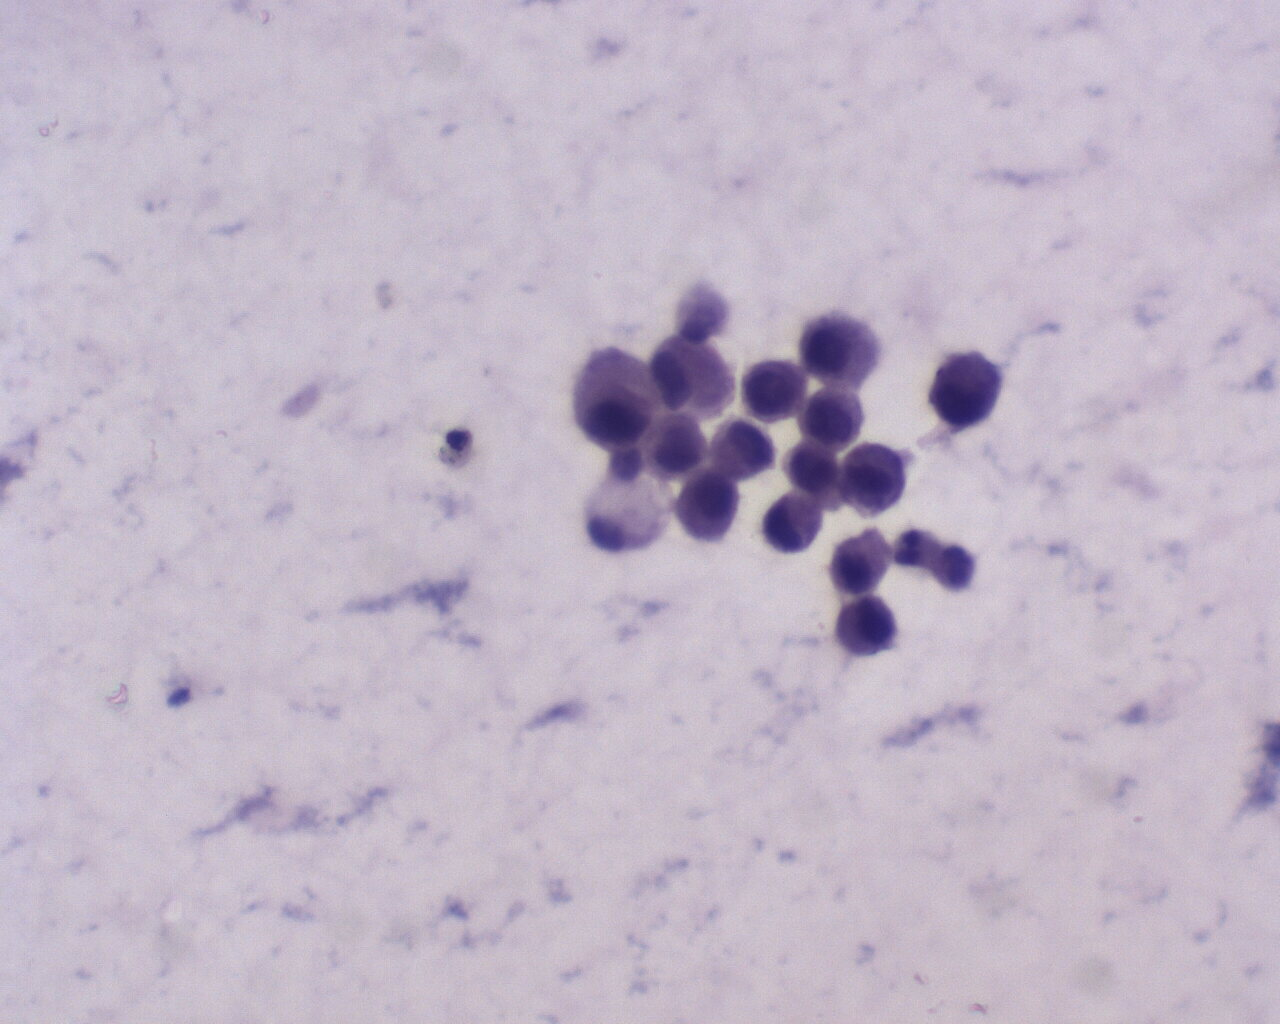ab: (565, 342, 664, 453), (797, 305, 890, 387), (929, 347, 1006, 434), (797, 385, 886, 449), (671, 474, 746, 549), (830, 592, 906, 658), (758, 485, 824, 555), (743, 359, 807, 428), (706, 417, 774, 481), (832, 527, 892, 597)
histo: (583, 466, 674, 560)
